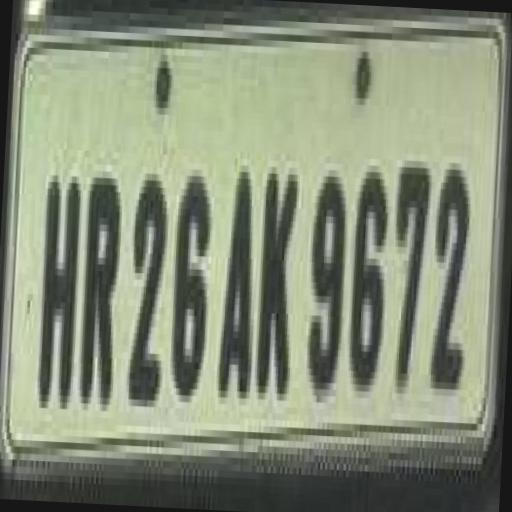number plate: (0, 0, 499, 483)
